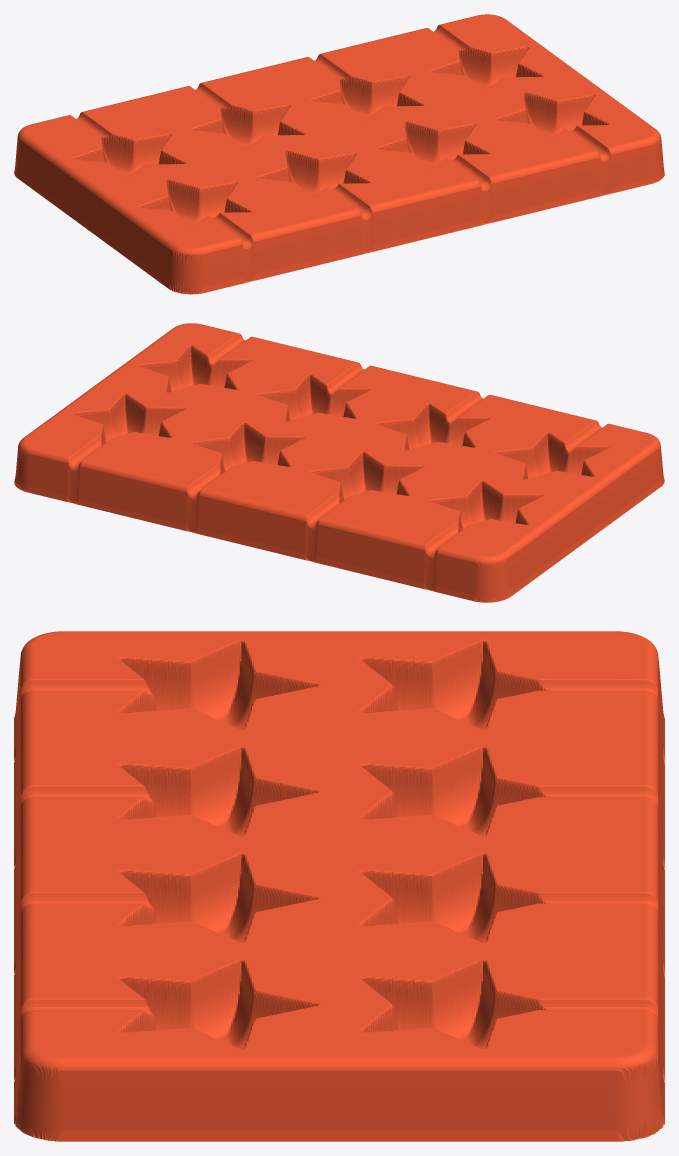
File: mold.glb
3 views of the same model, one above another, from view 1: azimuth 30°, elevation 25°; view 2: azimuth 150°, elevation 25°; view 3: azimuth 270°, elevation 25° (orthographic). The views are drawn at different scales.
Visible parts, largest first — view 1: geometry_0; view 2: geometry_0; view 3: geometry_0.
Part boxes in pixels (x1,y1,x2,y2): geometry_0: [14, 14, 664, 294]; geometry_0: [14, 323, 664, 602]; geometry_0: [14, 631, 664, 1141].
Bounding box in the file's own units: 0.1907 × 0.0155 × 0.119.
